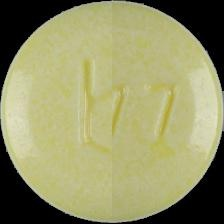0555-9025: (0, 0, 224, 224)
